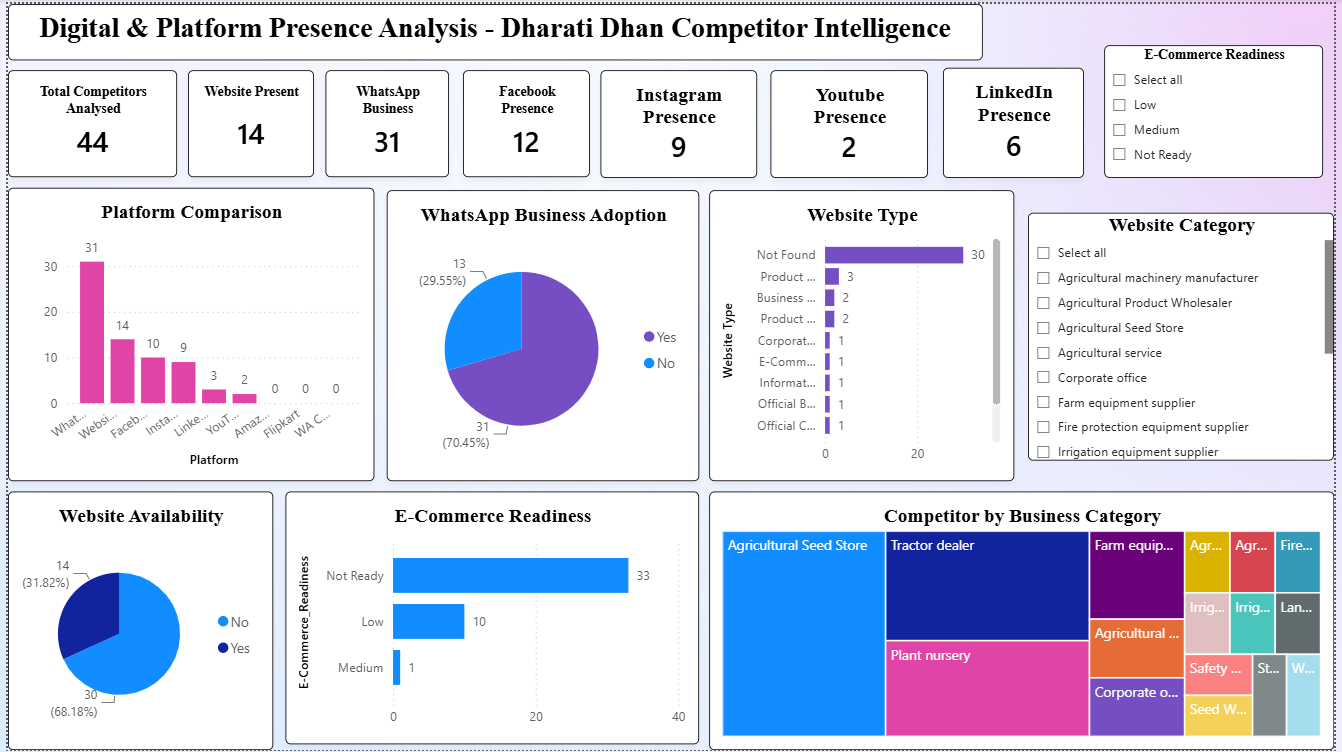

The page's visual inventory and layout, read from the dashboard file:
{"tool":"powerbi","page":{"name":"Digital Presence Overview","canvas":[1280,720],"ordinal":0},"visuals":[{"type":"textbox","box":[0,0,940.5,54.8],"z":0},{"type":"card","title":"Total Competitors Analysed","fields":{"Values":["CountNonNull(Master Competitor Matrix.Competitor Name)"]},"box":[0,64.3,163.1,103.6],"z":1000},{"type":"card","title":"Website Present","fields":{"Values":["CountNonNull(Master Competitor Matrix.Website_YN)"]},"box":[173.8,64.3,121.4,103.6],"z":2000},{"type":"card","title":"WhatsApp Business","fields":{"Values":["CountNonNull(Master Competitor Matrix.WhatsApp_YN)"]},"box":[306,64.3,119,103.6],"z":3000},{"type":"card","title":"Facebook Presence","fields":{"Values":["CountNonNull(Master Competitor Matrix.Facebook_YN)"]},"box":[439.3,64.3,122.6,103.6],"z":4000},{"type":"clusteredColumnChart","title":"Platform Comparison","fields":{"Category":["Data for PBI.Platform"],"Y":["Sum(Data for PBI.Competitors Present)"]},"box":[0,177.4,353.6,283.3],"z":7000},{"type":"pieChart","title":"Website Availability","fields":{"Category":["Master Competitor Matrix.Website_YN"],"Y":["CountNonNull(Master Competitor Matrix.Competitor Name)"]},"box":[0,470.5,255.8,249.7],"z":8000},{"type":"barChart","title":"Website Type","fields":{"Category":["Master Competitor Matrix.Website Type"],"Y":["CountNonNull(Master Competitor Matrix.Competitor Name)"]},"box":[676.8,179.8,294.4,281.1],"z":9000},{"type":"clusteredBarChart","title":"E-Commerce Readiness","fields":{"Category":["Master Competitor Matrix.E-Commerce_Readiness"],"Y":["CountNonNull(Master Competitor Matrix.Competitor Name)"]},"box":[267.8,470.5,399.3,243.7],"z":10000},{"type":"pieChart","title":"WhatsApp Business Adoption","fields":{"Category":["Master Competitor Matrix.WhatsApp_YN"],"Y":["CountNonNull(Master Competitor Matrix.Competitor Name)"]},"box":[365.6,179.8,301.6,281.1],"z":11000},{"type":"slicer","title":"Website Category","fields":{"Values":["Master Competitor Matrix.Category"]},"box":[984.5,201.5,295.6,238.9],"z":12001},{"type":"slicer","title":"E-Commerce Readiness","fields":{"Values":["Master Competitor Matrix.E-Commerce_Readiness"]},"box":[1058,39.8,211.1,127.9],"z":12002},{"type":"treemap","title":"Competitor by Business Category","fields":{"Group":["Master Competitor Matrix.Category"],"Values":["CountNonNull(Master Competitor Matrix.Competitor Name)"]},"box":[676.8,470.5,603.2,249.7],"z":12003},{"type":"card","title":"Instagram Presence","fields":{"Values":["CountNonNull(Master Competitor Matrix.Instagram_YN)"]},"box":[571.9,63.9,150.8,103.8],"z":12004},{"type":"card","title":"Youtube Presence","fields":{"Values":["CountNonNull(Master Competitor Matrix.YouTube_YN)"]},"box":[735.9,63.9,152,103.8],"z":12005},{"type":"card","title":"LinkedIn Presence","fields":{"Values":["CountNonNull(Master Competitor Matrix.LinkedIn_YN)"]},"box":[902.4,61.5,136.3,106.2],"z":12006}]}

Visuals, with their boxes in screenshot pixels (x1, y1, x2, y2), scaled from the page's 1280x720 canvas onto the 1342x752 screenshot:
textbox: select_region(0, 0, 986, 57)
"Total Competitors Analysed" card: select_region(0, 67, 171, 175)
"Website Present" card: select_region(182, 67, 309, 175)
"WhatsApp Business" card: select_region(321, 67, 446, 175)
"Facebook Presence" card: select_region(461, 67, 589, 175)
"Platform Comparison" clusteredColumnChart: select_region(0, 185, 371, 481)
"Website Availability" pieChart: select_region(0, 491, 268, 751)
"Website Type" barChart: select_region(710, 188, 1018, 481)
"E-Commerce Readiness" clusteredBarChart: select_region(281, 491, 699, 746)
"WhatsApp Business Adoption" pieChart: select_region(383, 188, 700, 481)
"Website Category" slicer: select_region(1032, 210, 1341, 460)
"E-Commerce Readiness" slicer: select_region(1109, 42, 1331, 175)
"Competitor by Business Category" treemap: select_region(710, 491, 1341, 751)
"Instagram Presence" card: select_region(600, 67, 758, 175)
"Youtube Presence" card: select_region(772, 67, 931, 175)
"LinkedIn Presence" card: select_region(946, 64, 1089, 175)
